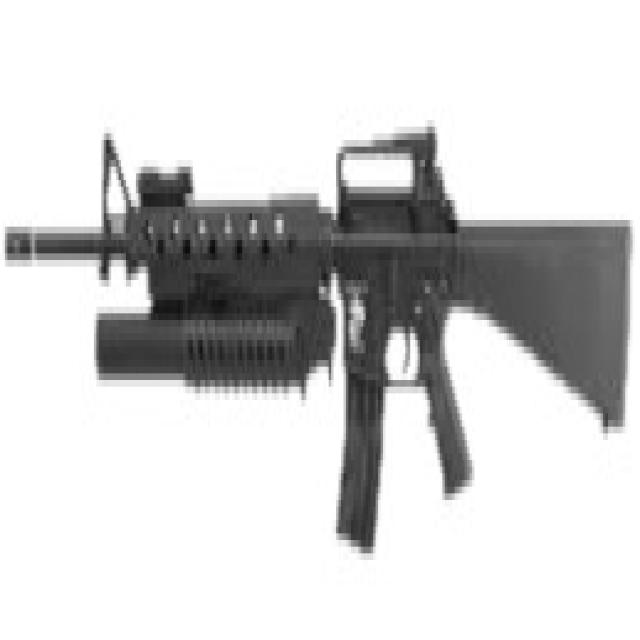rifle: (3, 115, 633, 570)
